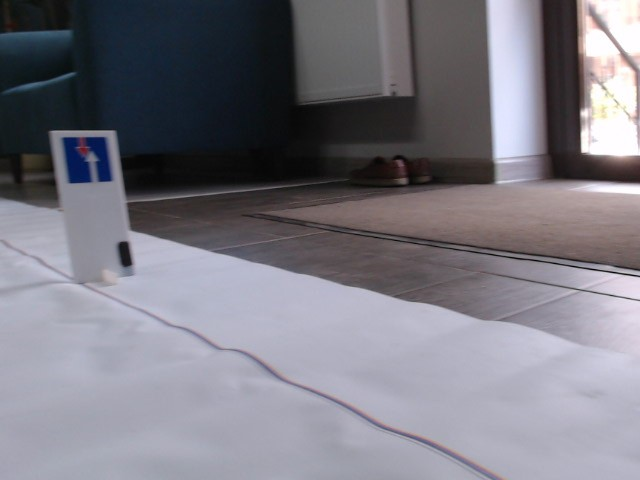priority_movement: (61, 136, 114, 184)
